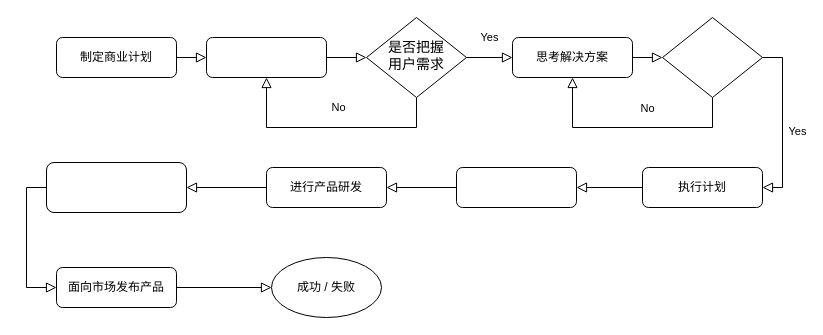
Image size: 823x335. Some labels were removed from this diagram. Each missing label, with the centre of its shape:
"完善功能和体验（针对调研阶段获得的用户需求和痛点）" belongs at point (116, 187).
"获得资本投入" belongs at point (516, 187).
"解决方案 是否合理" belongs at point (712, 57).
"调研用户需求" belongs at point (266, 57).
